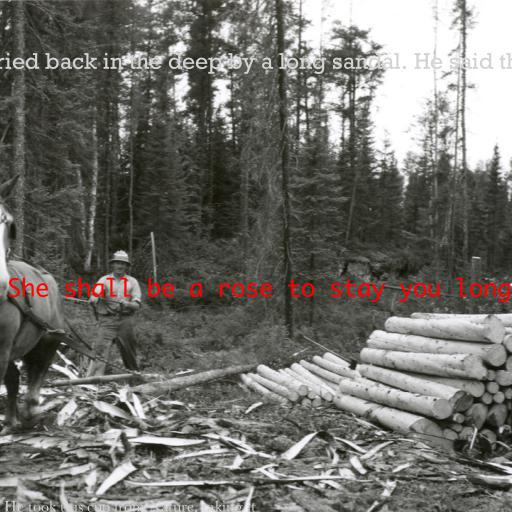Baskerville: (4, 500, 256, 512)
Monaco: (7, 277, 511, 303)
Rockwell: (0, 52, 512, 74)
